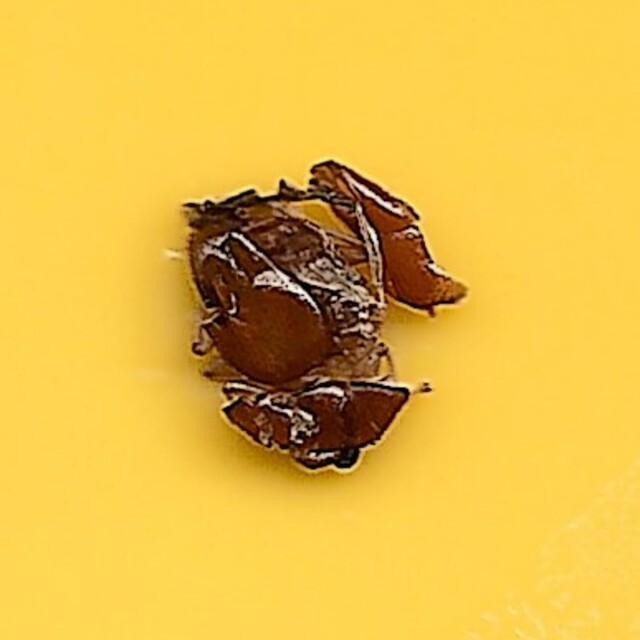Coleoptera: (165, 155, 475, 485)
